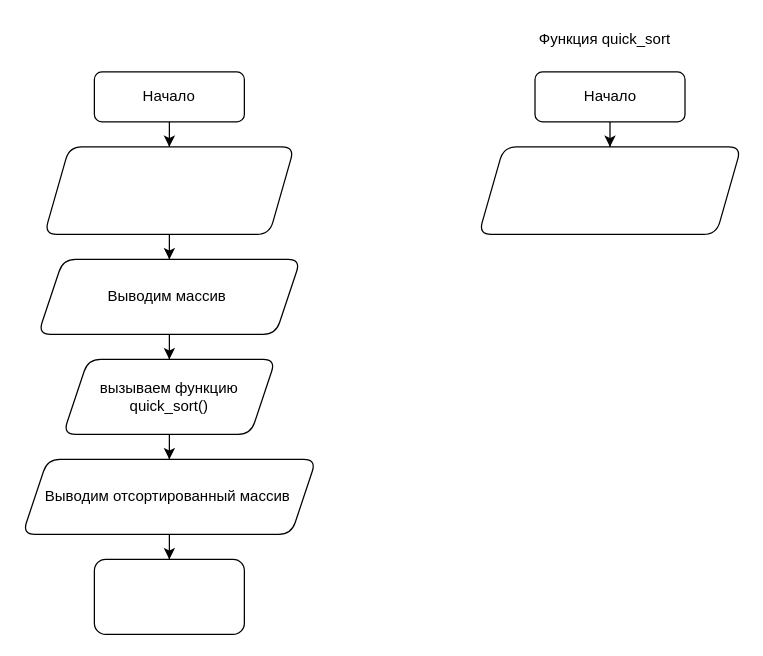
The diagram is 763 pixels wide and 656 high, and some of its shapes have lost their labels. The box of each missing label's shape, as (x1, y1, x2, y2) in pixels:
Генерируем массив случайных чисел: (43, 146, 294, 234)
Конец: (93, 558, 244, 634)
Получаем массив arr,low (номер первого) и high (последнего его элемента: (478, 146, 741, 234)
